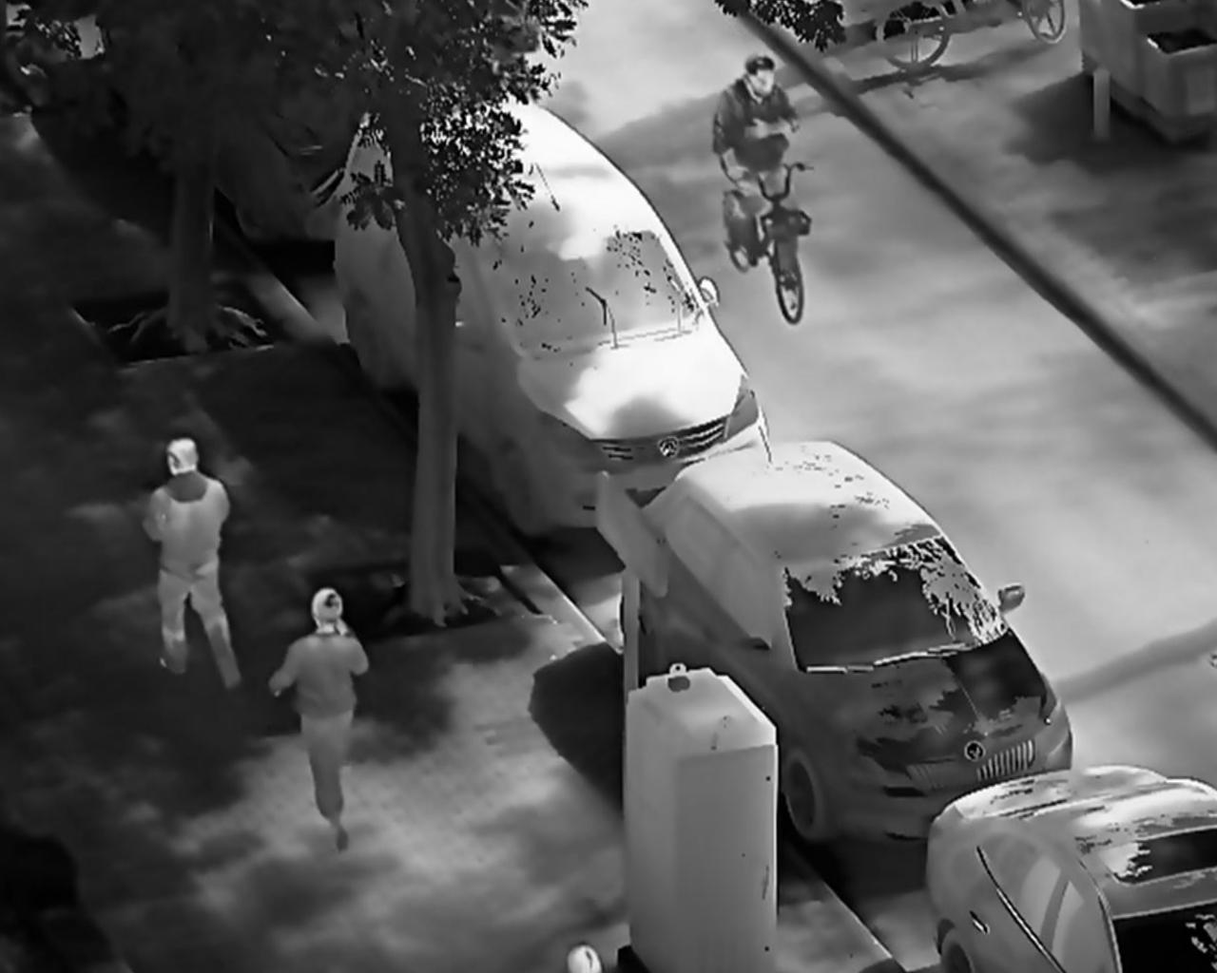person: (263, 583, 372, 856), (137, 434, 249, 699), (707, 49, 809, 280)
